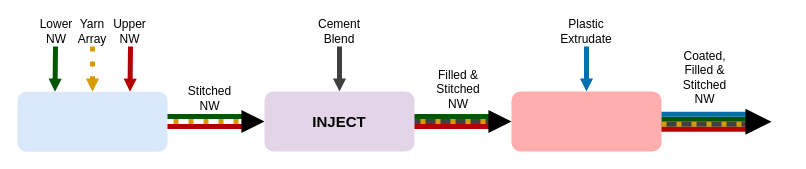
Image size: 806x169. Some labels were removed from this diagram. The box of each missing label's shape, as (x1, y1, x2, y2) in pixels:
COAT: (511, 91, 661, 151)
STITCH: (17, 91, 167, 151)
